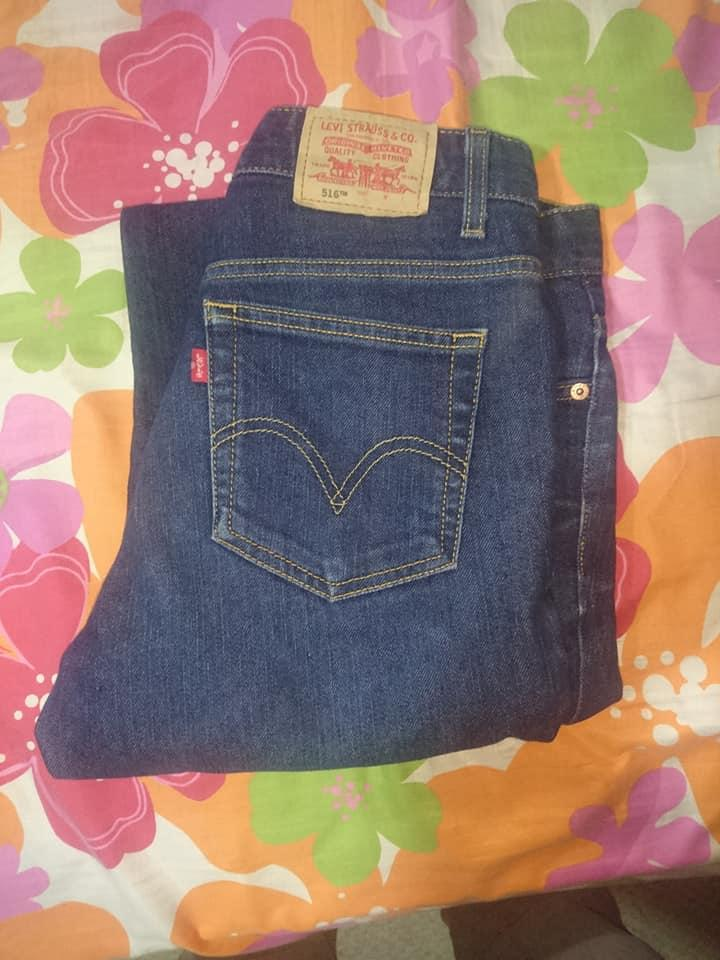Jeans: (27, 94, 632, 791)
